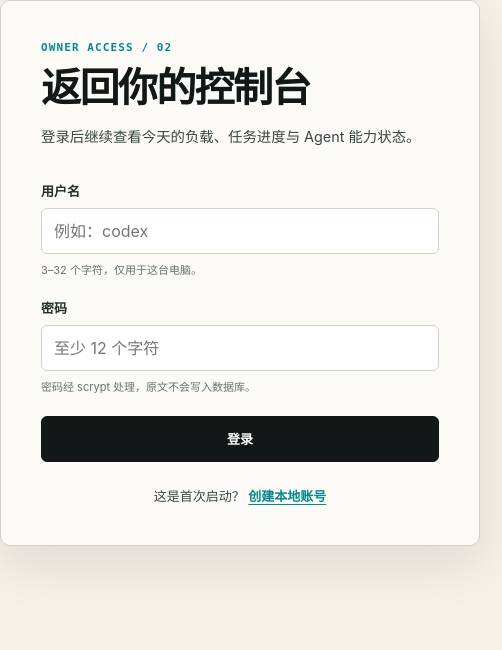
Test case: AuthForm › shows the server error and never reports false success
Type "codex" into the field labelled "用户名" at (240, 231), box 41,208 -> 439,254
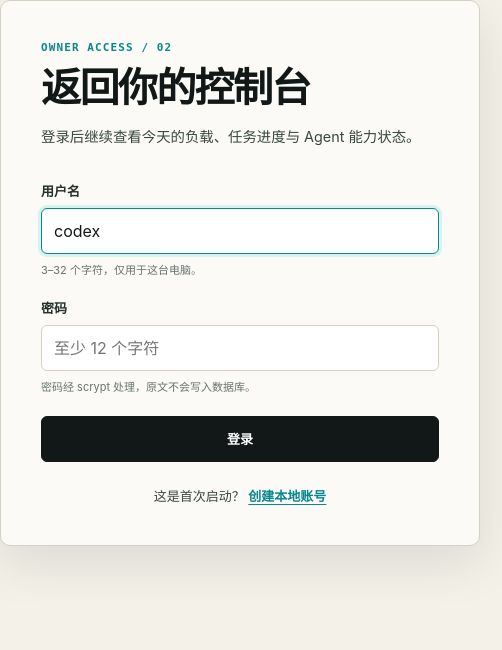
Type "wrong password" into the password field labelled "密码" at (240, 348), box 41,326 -> 439,372
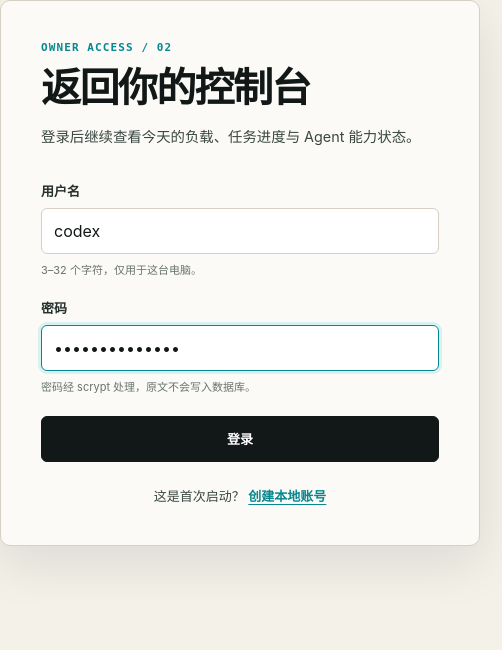
Click the button "登录" at (240, 439), box 41,416 -> 439,462
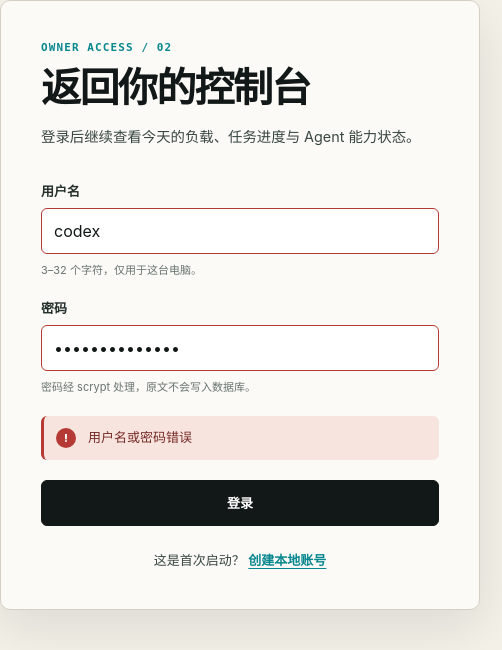
expect the message shows "用户名或密码错误": met, box 88,429 -> 192,445
